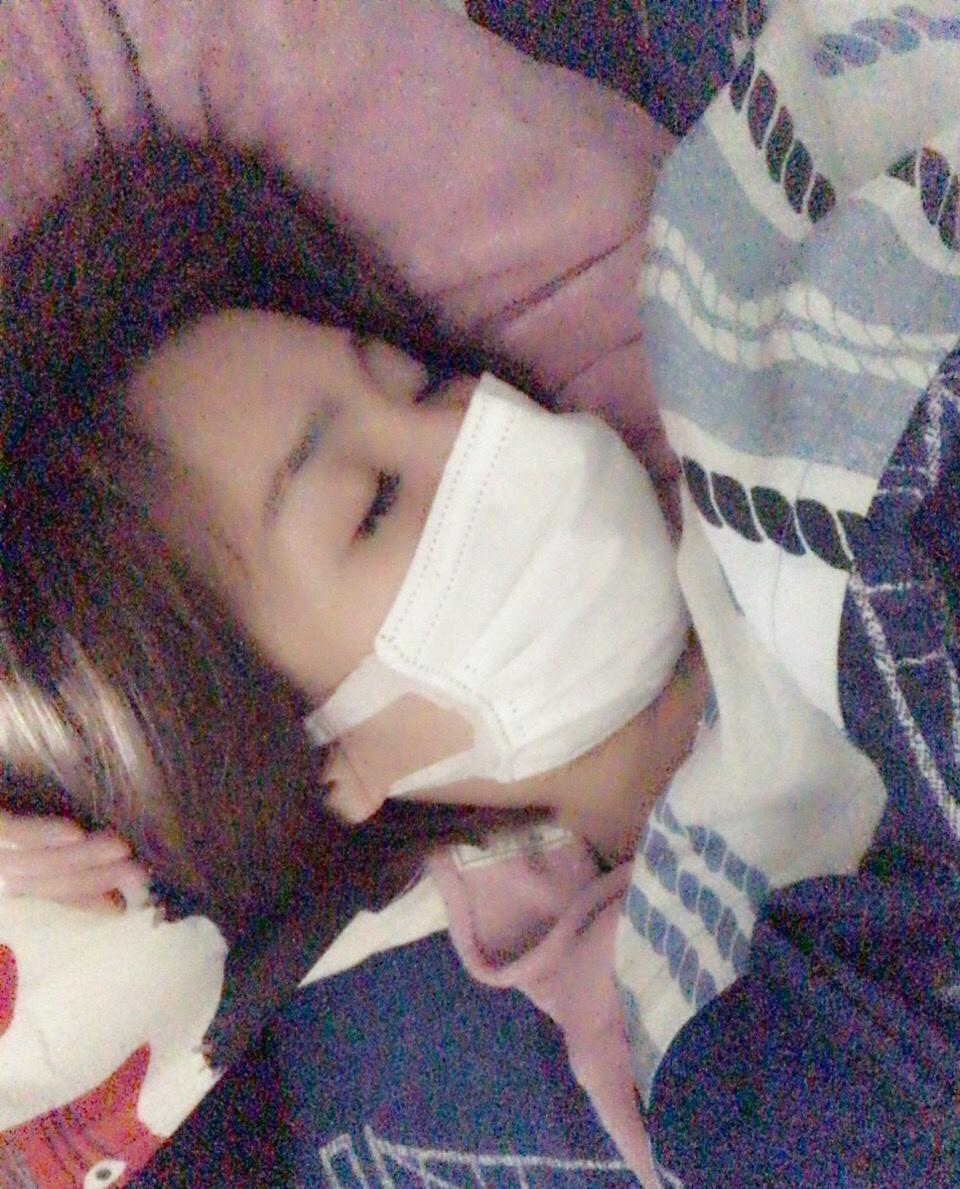OK: (192, 304, 684, 796)
